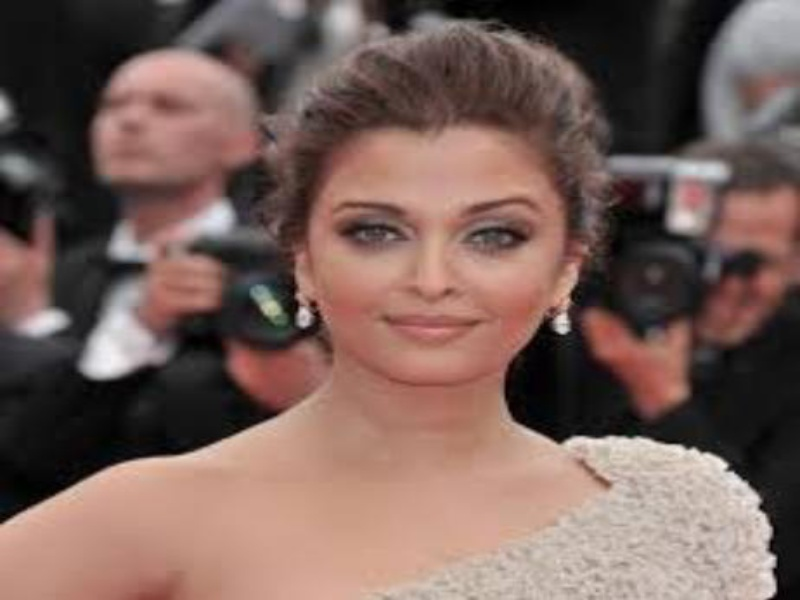TsisyArotava: (272, 28, 609, 397)
